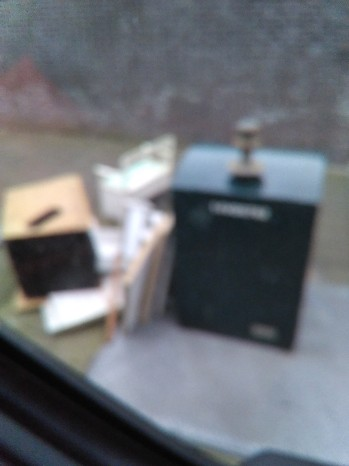Container: (187, 148, 331, 353)
Rest: (23, 190, 106, 306), (120, 163, 176, 312)
